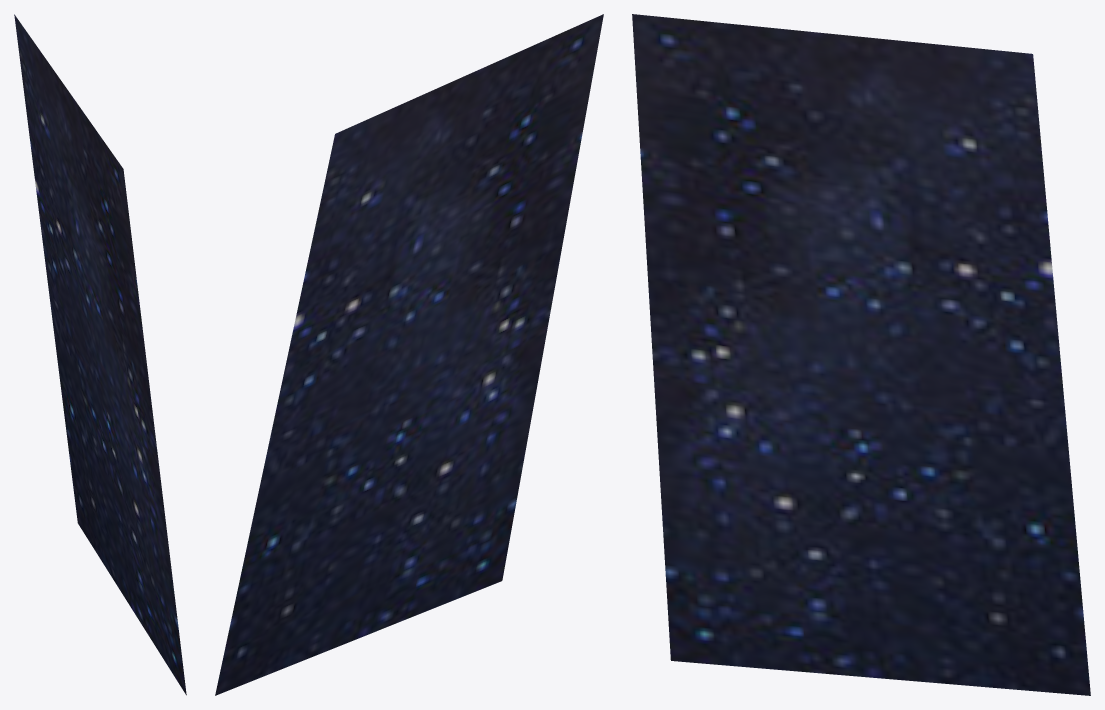
The model's file is StarrySky02_Maincity_001_A.FBX.
3 views of the same model, side by side, from view 1: azimuth 30°, elevation 25°; view 2: azimuth 150°, elevation 25°; view 3: azimuth 270°, elevation 25° (orthographic). The views are drawn at different scales.
Parts seen in each view (by area): view 1: StarrySky02_Maincity_001_A; view 2: StarrySky02_Maincity_001_A; view 3: StarrySky02_Maincity_001_A.
Boxes of the visible parts, <box> form: StarrySky02_Maincity_001_A: <box>14,14,186,695</box>; StarrySky02_Maincity_001_A: <box>215,14,603,695</box>; StarrySky02_Maincity_001_A: <box>632,14,1090,695</box>.
Size of the model in its own units: 77 by 247 by 170.
Materials: 1 (1 with a texture image).
